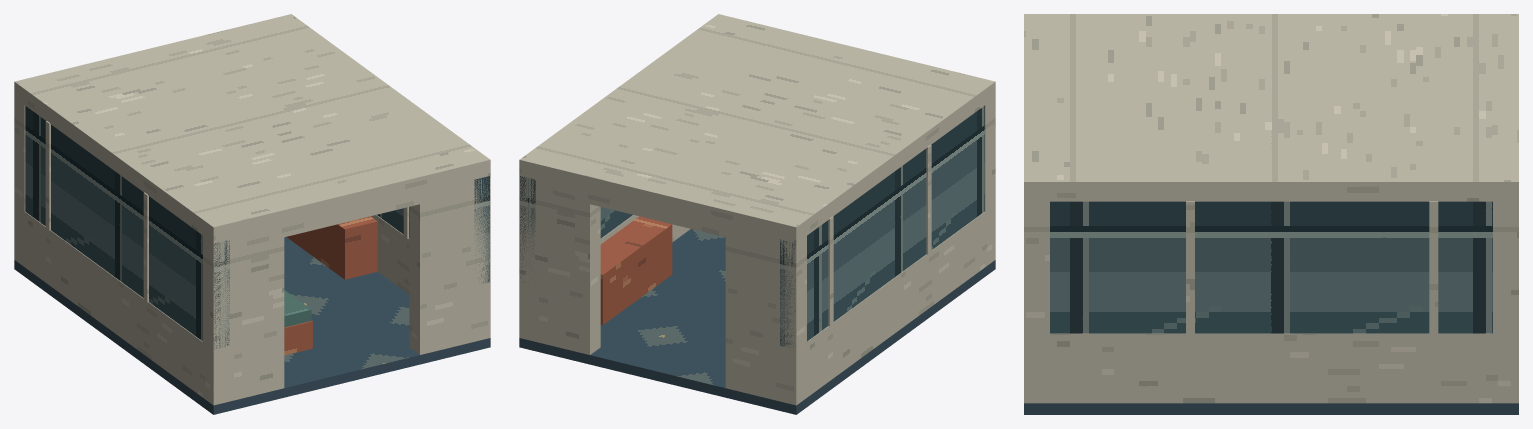
The model's file is mv-stateroom.glb.
The picture shows the model from 3 angles, left to right: view 1: azimuth 30°, elevation 25°; view 2: azimuth 150°, elevation 25°; view 3: azimuth 270°, elevation 25°; orthographic projection. The views are drawn at different scales.
Visible parts, largest first — view 1: shell.005, floor_mv-stateroom, fittings.005; view 2: shell.005, floor_mv-stateroom, fittings.005; view 3: shell.005, floor_mv-stateroom.
Part boxes in pixels (bbox=[...]): shell.005: bbox=[14, 14, 490, 405]; floor_mv-stateroom: bbox=[14, 237, 490, 414]; fittings.005: bbox=[284, 216, 377, 355]; shell.005: bbox=[519, 14, 995, 405]; floor_mv-stateroom: bbox=[519, 229, 995, 414]; fittings.005: bbox=[600, 216, 672, 324]; shell.005: bbox=[1024, 14, 1518, 403]; floor_mv-stateroom: bbox=[1024, 403, 1518, 414].
Bounding box in the file's own units: 4.94 × 3.17 × 6.1.
Materials: 7 (7 with a texture image).
